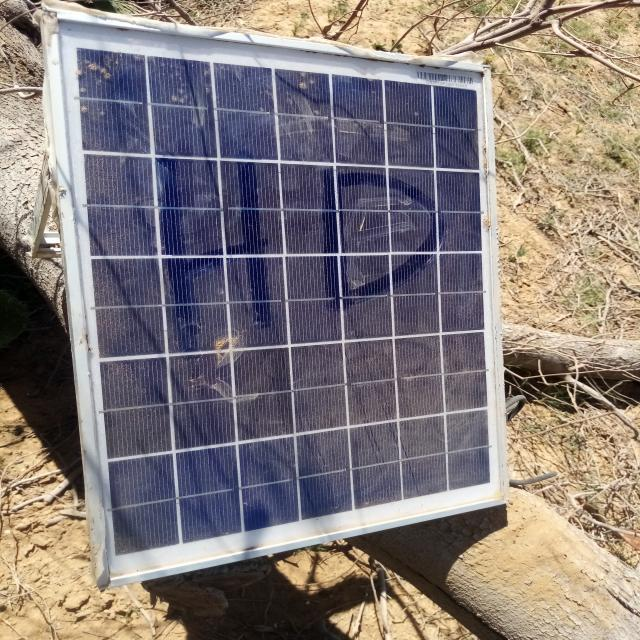faulty: (62, 12, 511, 585)
